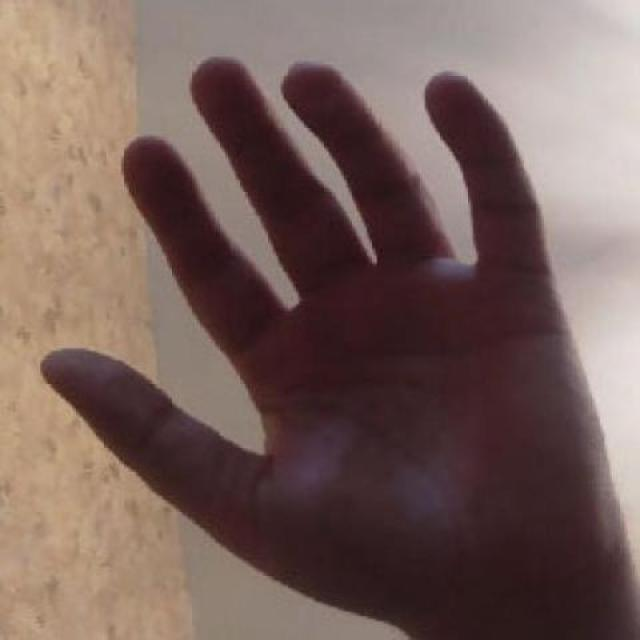Open Hand: (41, 53, 628, 640)
